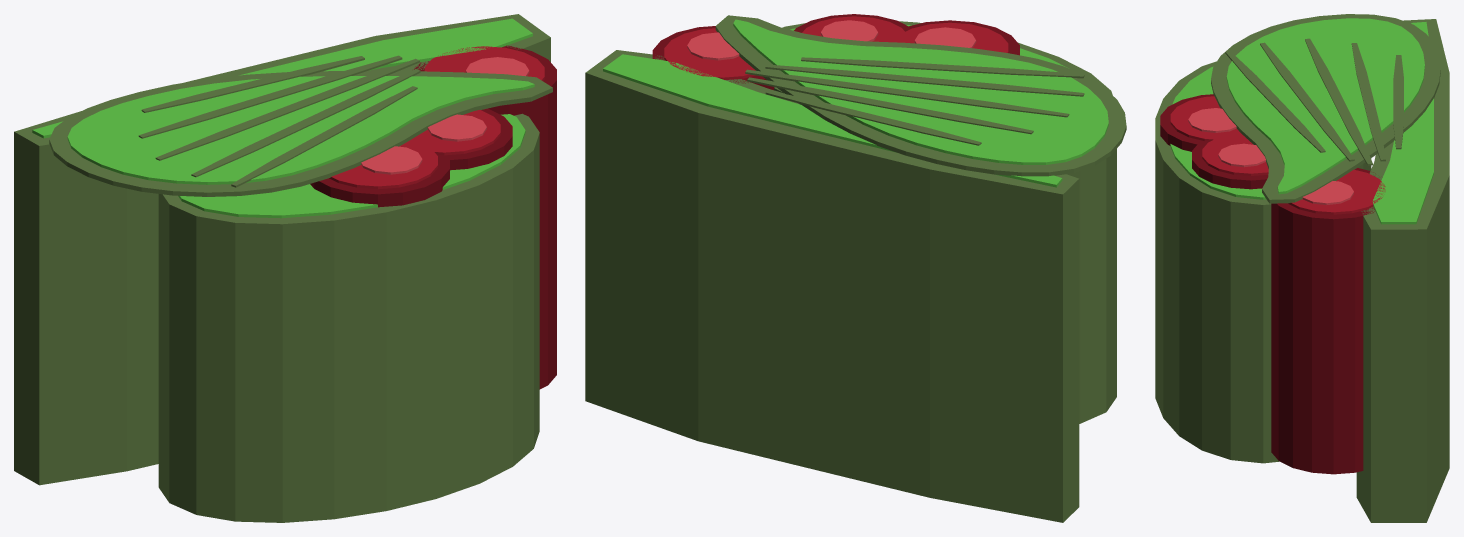
The model's file is bag_folha_frutas.fbx.
3 renders of one model, left to right at view 1: azimuth 30°, elevation 25°; view 2: azimuth 150°, elevation 25°; view 3: azimuth 270°, elevation 25°, orthographic. The views are drawn at different scales.
Visible parts, largest first — view 1: bag_folha_frutas_mochila; view 2: bag_folha_frutas_mochila; view 3: bag_folha_frutas_mochila.
Part boxes in pixels (<box>): bag_folha_frutas_mochila: <box>14,14,556,522</box>; bag_folha_frutas_mochila: <box>585,14,1126,522</box>; bag_folha_frutas_mochila: <box>1155,14,1449,522</box>.
Bounding box in the file's own units: 2.83 × 1.9 × 1.67.
Materials: 1 (1 with a texture image).
